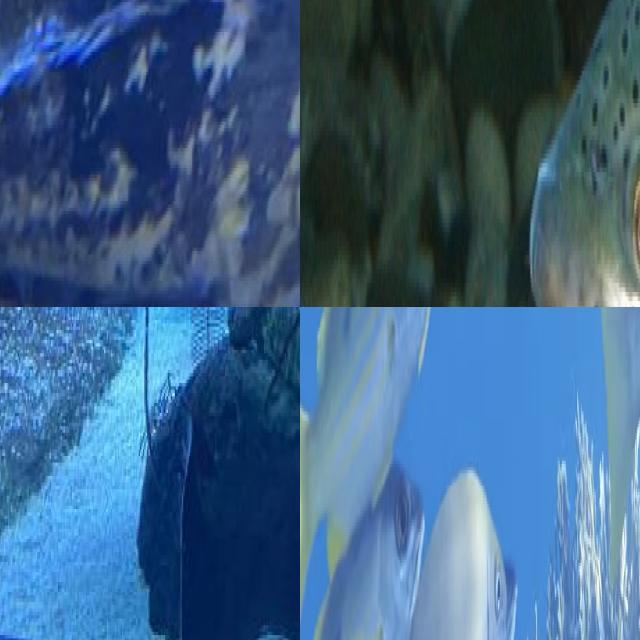fish: (300, 307, 640, 640), (0, 0, 300, 307), (537, 0, 640, 307)
